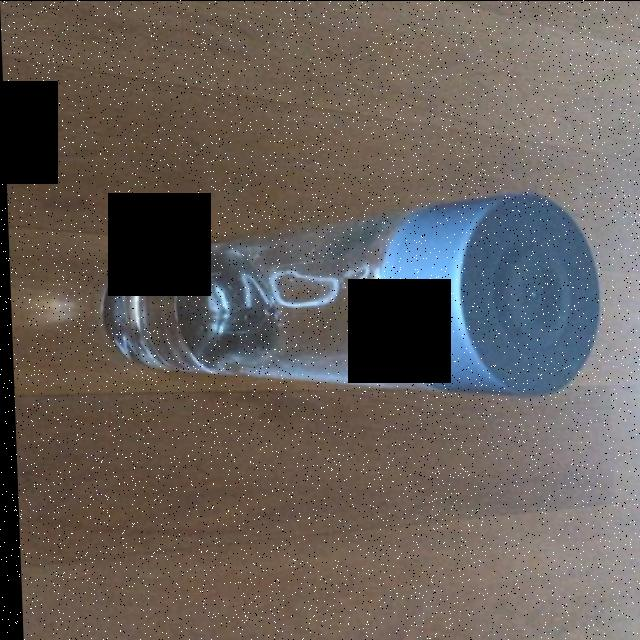water: (118, 232, 283, 382)
